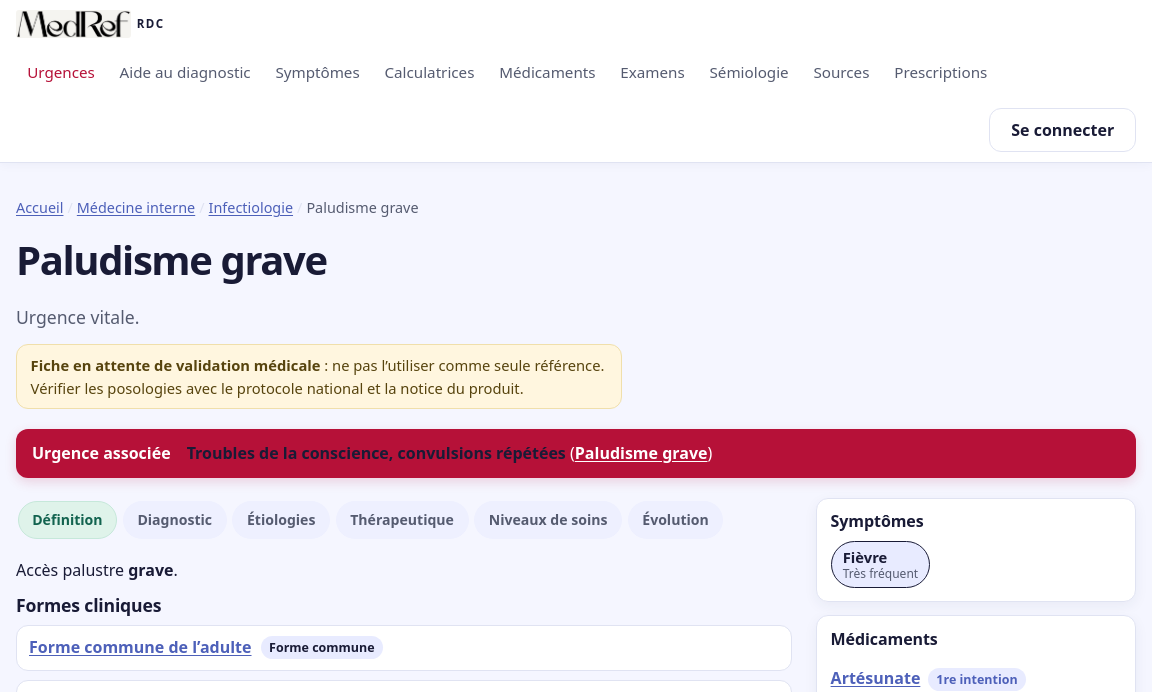
Test case: Fiche pathologie › change d’onglet au clic et au clavier
The image size is (1152, 692).
Click the tab "Diagnostic" at (175, 520), box [123,501,227,539]
(page scrolled)
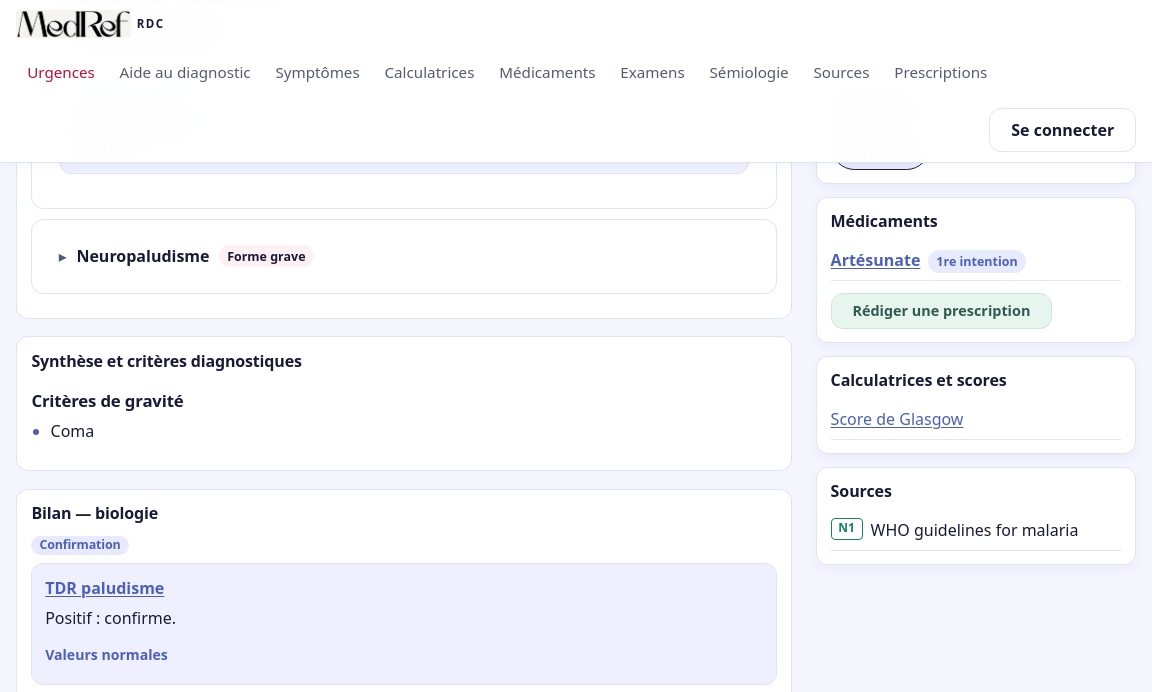
Check: the heading "Critères de gravité" is shown, box [31,389,184,412]
Press Arrowright
(page scrolled)
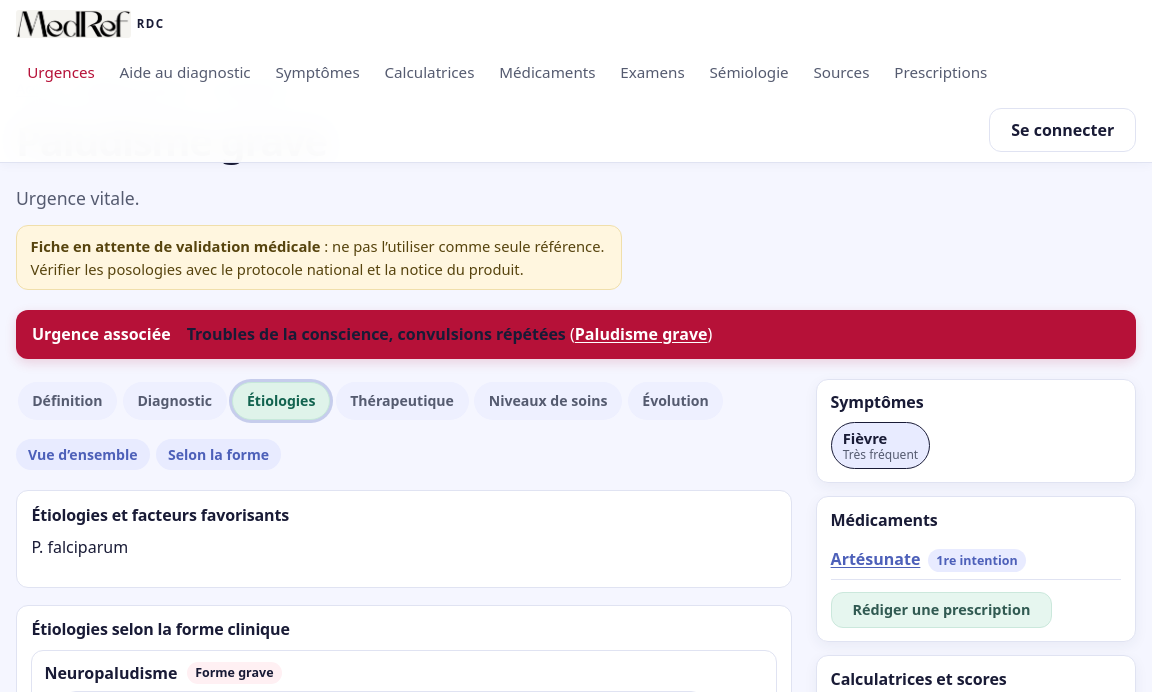
Check: the tab "Étiologies" is selected, box [232,382,330,420]
